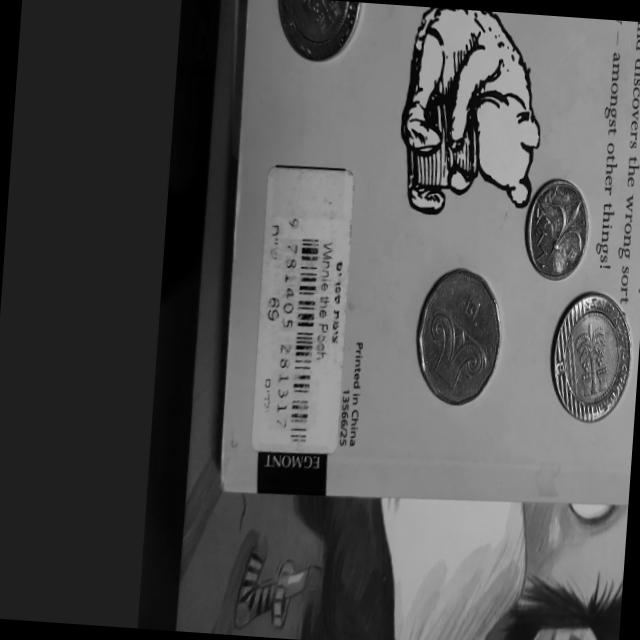1-shekel: (519, 162, 595, 285)
10-shekel: (540, 300, 629, 426)
5-shekel: (411, 255, 509, 410)
